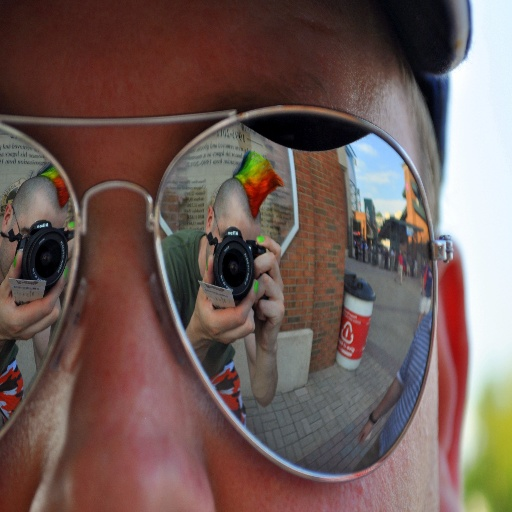hand: (259, 245, 285, 346)
